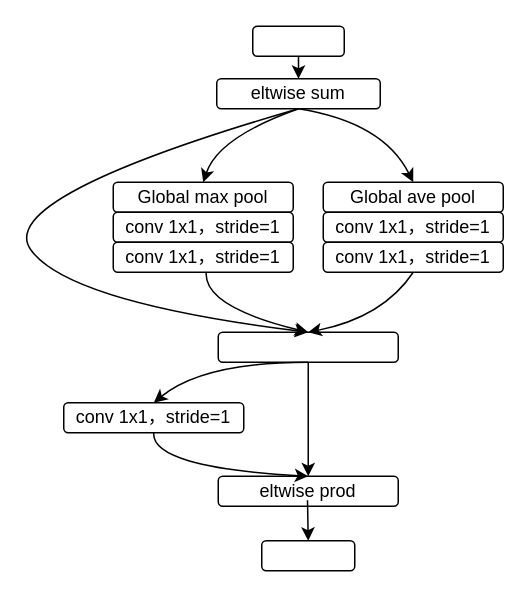
The diagram is 530 pixels wide and 597 high, and some of its shapes have lost their labels. Each missing label, with the centre of its shape:
"axpy" belongs at pixel 307 346.
"input" belongs at pixel 297 40.
"output" belongs at pixel 307 555.
